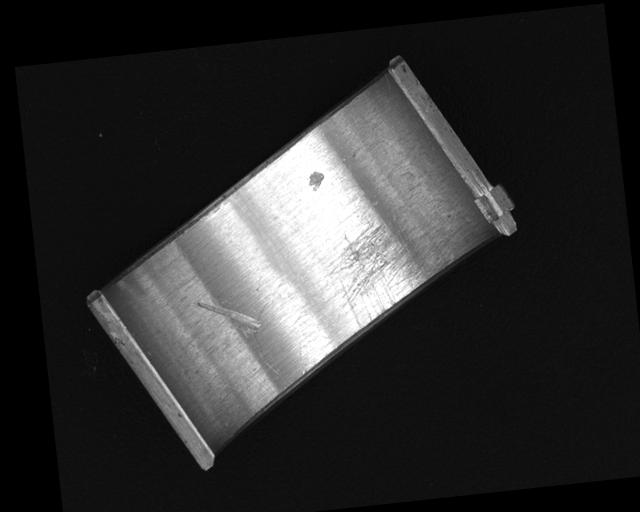bruise: (307, 168, 326, 192)
nick: (195, 294, 261, 341), (250, 297, 282, 378)
scratch: (319, 214, 456, 333)
